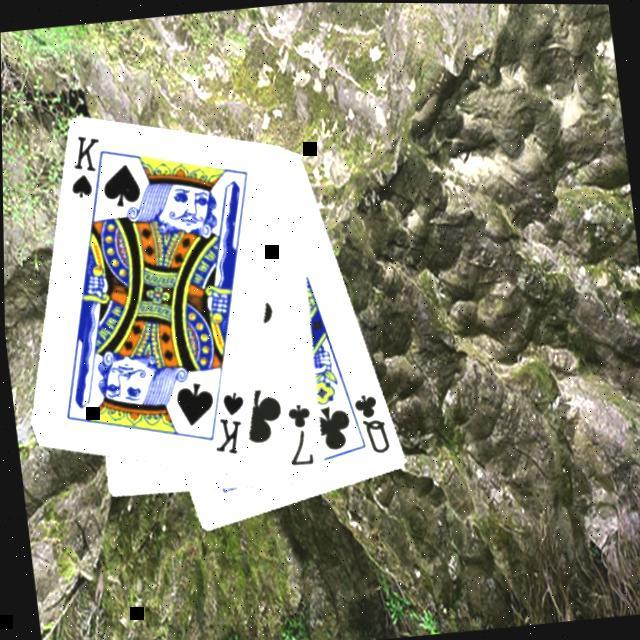7C: (281, 401, 320, 472)
KS: (63, 132, 116, 214), (207, 388, 255, 462)
QC: (350, 388, 396, 460)
